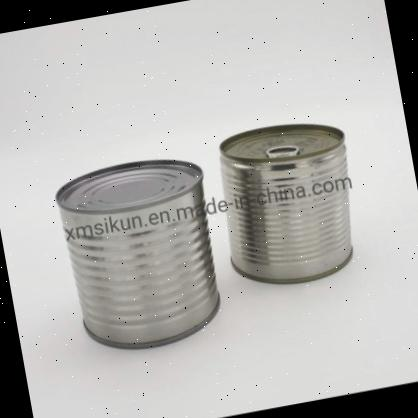can: (51, 150, 234, 361), (208, 114, 370, 296)
